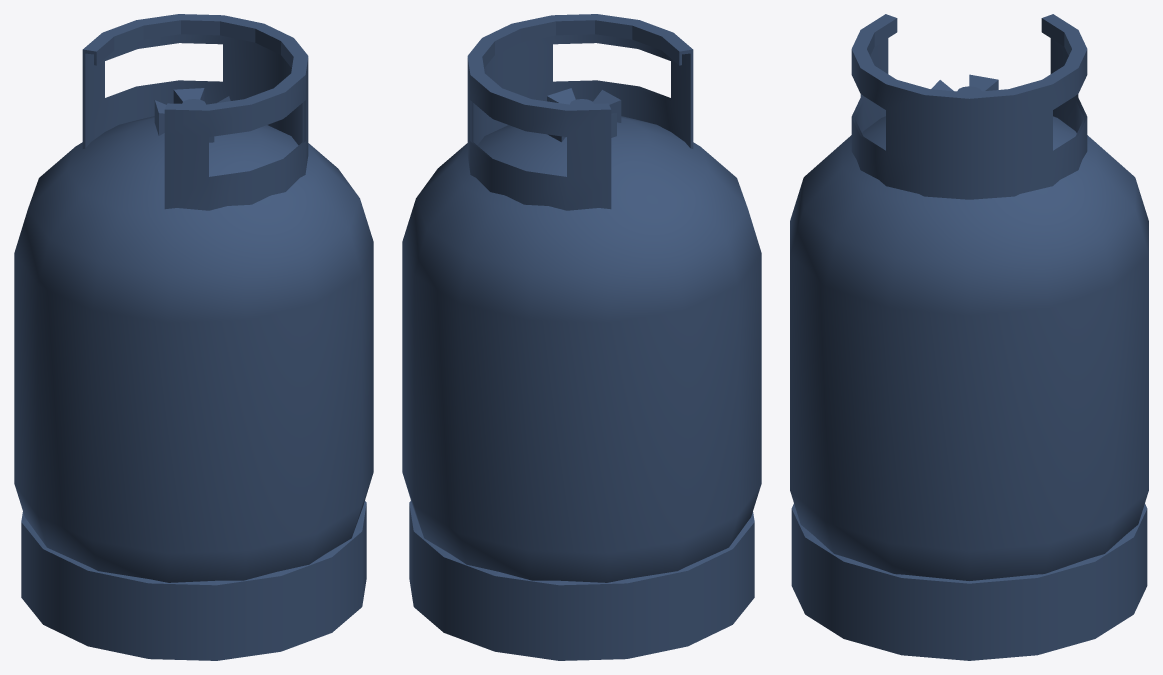
Rendered from gas_tank.fbx.
3 renders of one model, left to right at view 1: azimuth 30°, elevation 25°; view 2: azimuth 150°, elevation 25°; view 3: azimuth 270°, elevation 25°, orthographic. The views are drawn at different scales.
Visible parts, largest first — view 1: pCylinder7; view 2: pCylinder7; view 3: pCylinder7.
Part boxes in pixels (x1,y1,x2,y2): pCylinder7: [14, 14, 373, 660]; pCylinder7: [402, 14, 761, 660]; pCylinder7: [790, 14, 1148, 660].
Size of the model in its own units: 2 by 3.25 by 1.95.
